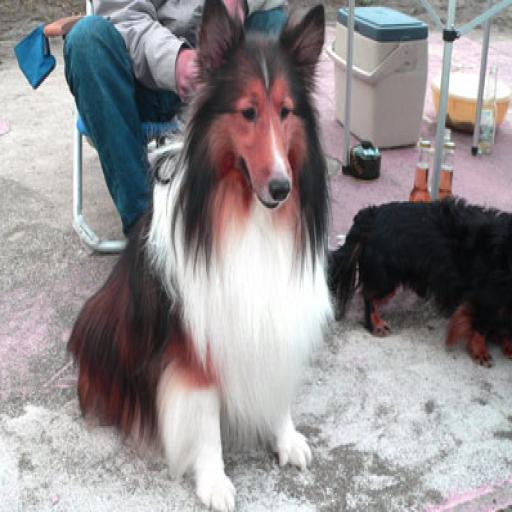dog_face: (195, 0, 323, 210)
